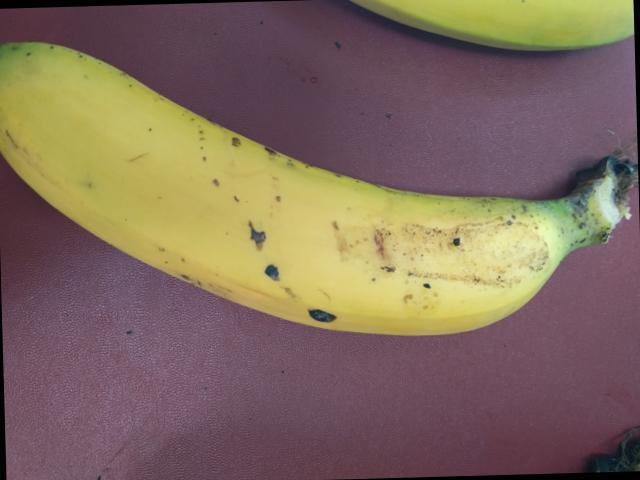freshripe: (330, 0, 639, 55)
ripe: (0, 26, 577, 346)
